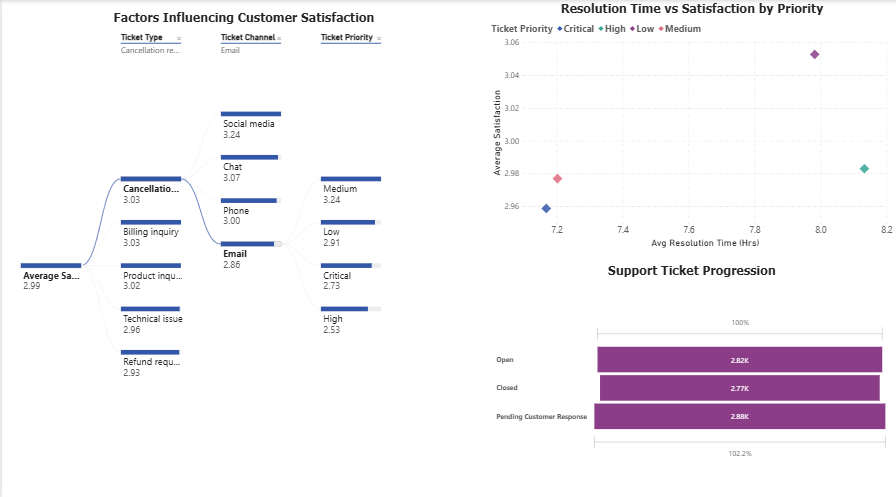

The dashboard page shown, as its layout file describes it:
{"tool":"powerbi","page":{"name":"Page 3","canvas":[1929,1080],"ordinal":2},"visuals":[{"type":"decompositionTreeVisual","title":"Factors Influencing Customer Satisfaction","fields":{"Analyze":["customersupport.Average Satisfaction"],"ExplainBy":["customersupport.Ticket Type","customersupport.Ticket Channel","customersupport.Ticket Priority"]},"box":[10.8,19.4,1023.8,1060.6],"z":0},{"type":"scatterChart","title":"Resolution Time vs Satisfaction by Priority","fields":{"Series":["customersupport.Ticket Priority"],"Y":["customersupport.Average Satisfaction"],"Size":["CountNonNull(customersupport.Ticket ID)"],"X":["customersupport.Avg Resolution Time (Hrs)"]},"box":[1051.9,0,877,540],"z":1000},{"type":"funnel","title":"Support Ticket Progression","fields":{"Y":["CountNonNull(customersupport.Ticket ID)"],"Category":["customersupport.TicketStatusDisplay"]},"box":[1062.7,565.9,855.4,509.8],"z":3000}]}

Visuals, with their boxes in screenshot pixels (x1, y1, x2, y2), scaled from the page's 1929x1080 canvas onto the 896x497 screenshot:
"Factors Influencing Customer Satisfaction" decompositionTreeVisual: rect(5, 9, 481, 496)
"Resolution Time vs Satisfaction by Priority" scatterChart: rect(489, 0, 895, 248)
"Support Ticket Progression" funnel: rect(494, 260, 891, 495)
